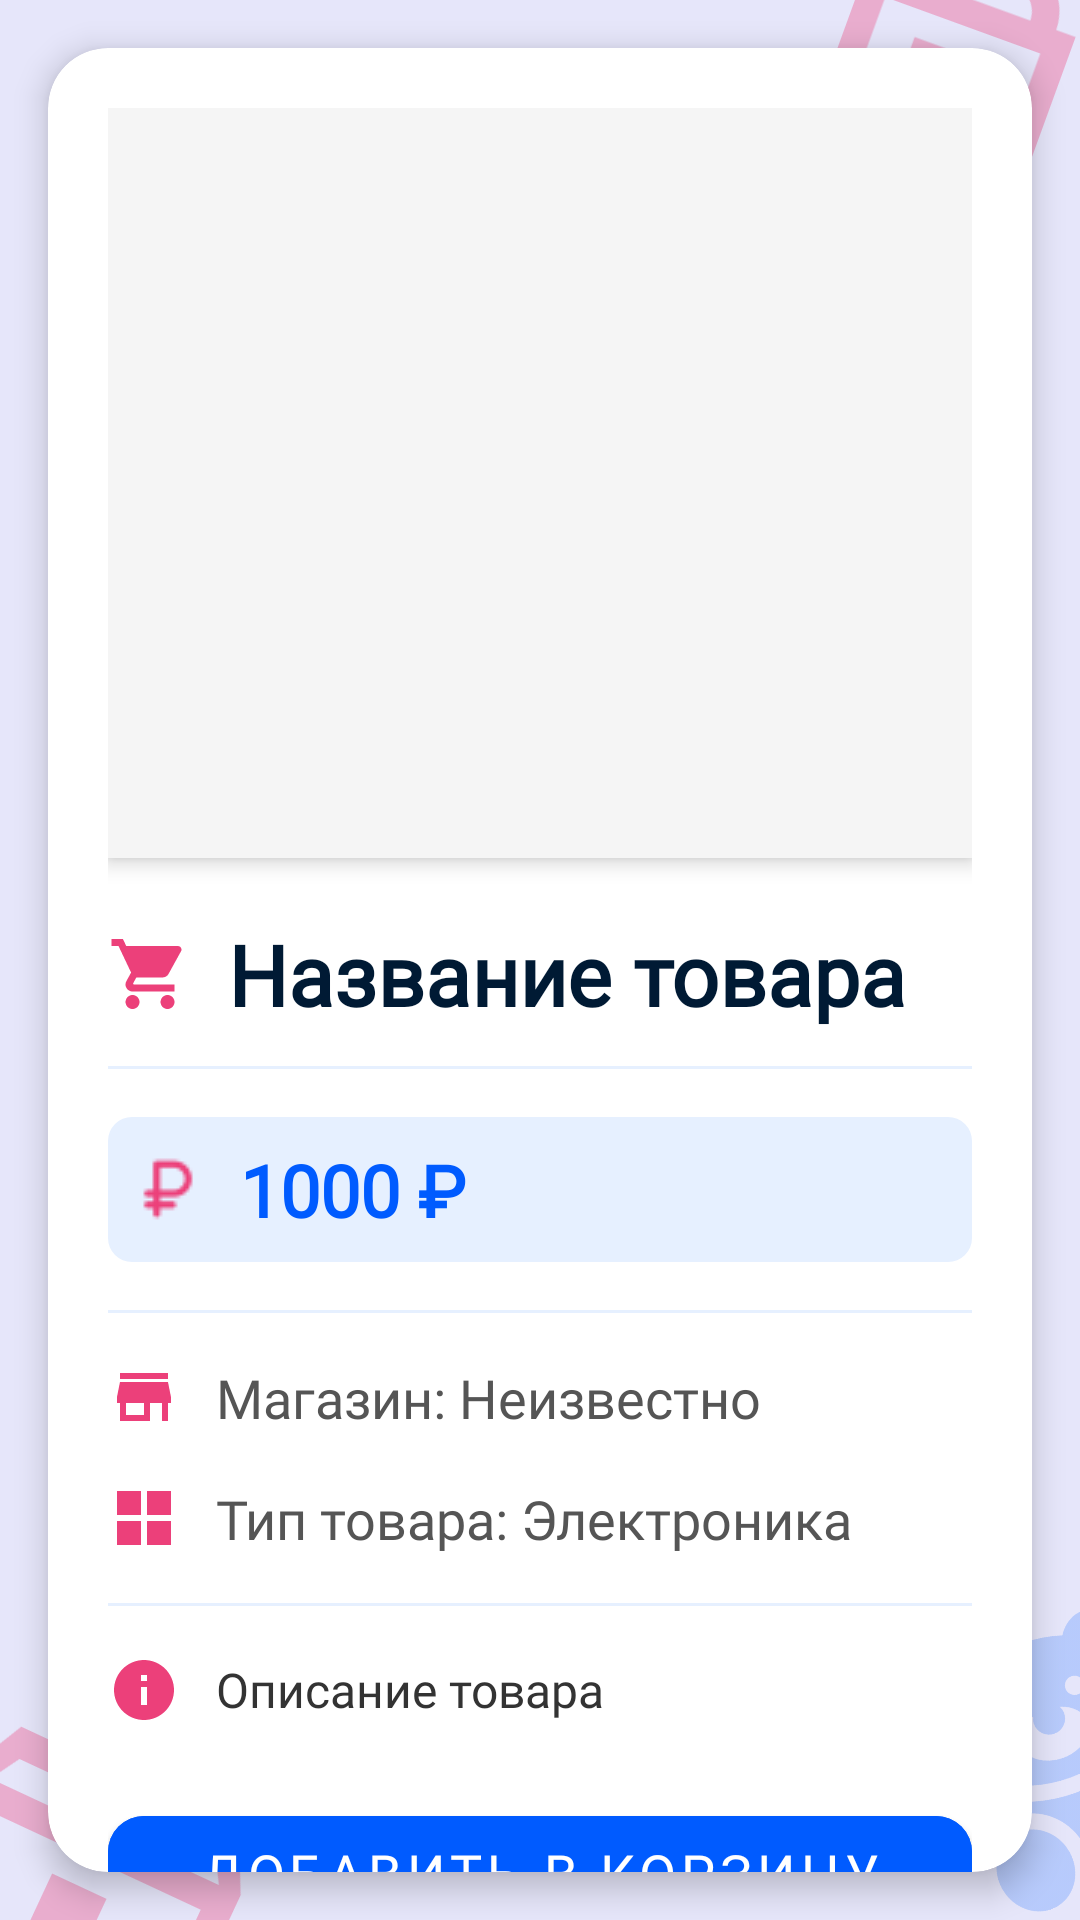

Icon click points for this 1080 x 1920 phone screenshot, format (x=x, y=y):
cart: (x=146, y=974)
category: (x=144, y=1518)
info: (x=144, y=1690)
price: (x=168, y=1189)
store: (x=144, y=1397)
